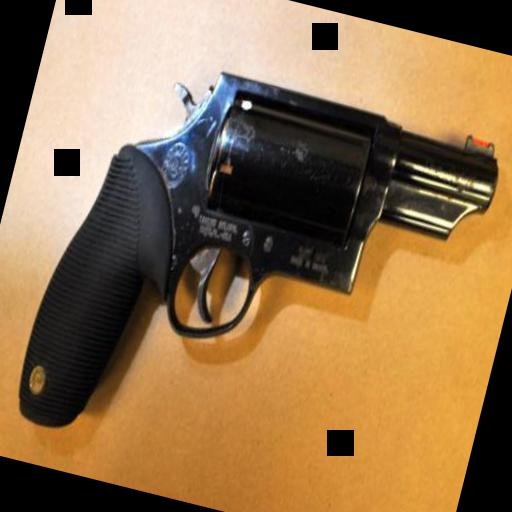Handgun: (13, 26, 511, 512)
